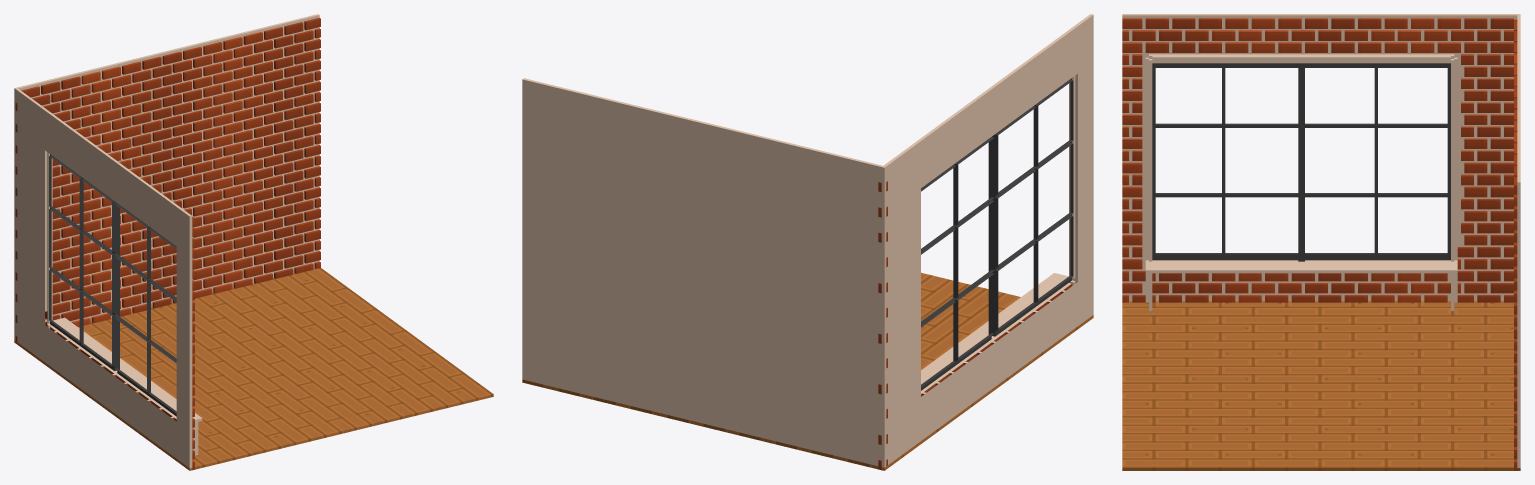
Rendered from room-1_0_lev1_lev3.glb.
3 renders of one model, left to right at view 1: azimuth 30°, elevation 25°; view 2: azimuth 150°, elevation 25°; view 3: azimuth 270°, elevation 25°, orthographic. The views are drawn at different scales.
Parts seen in each view (by area): view 1: room-1_0_lev1_lev3; view 2: room-1_0_lev1_lev3; view 3: room-1_0_lev1_lev3.
Boxes of the visible parts, x1,y1,x2,y2 form: room-1_0_lev1_lev3: [14, 14, 493, 470]; room-1_0_lev1_lev3: [522, 14, 1093, 470]; room-1_0_lev1_lev3: [1122, 14, 1520, 470].
Size of the model in its own units: 8.97 by 7.17 by 8.97.
1 material, 1 textured.
